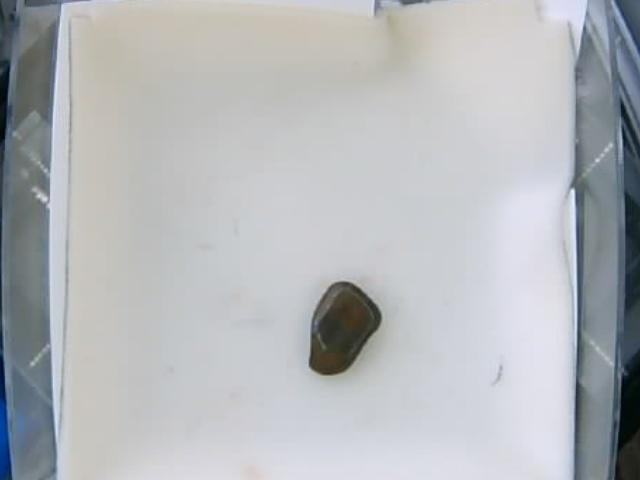Pebble: (307, 279, 385, 374)
